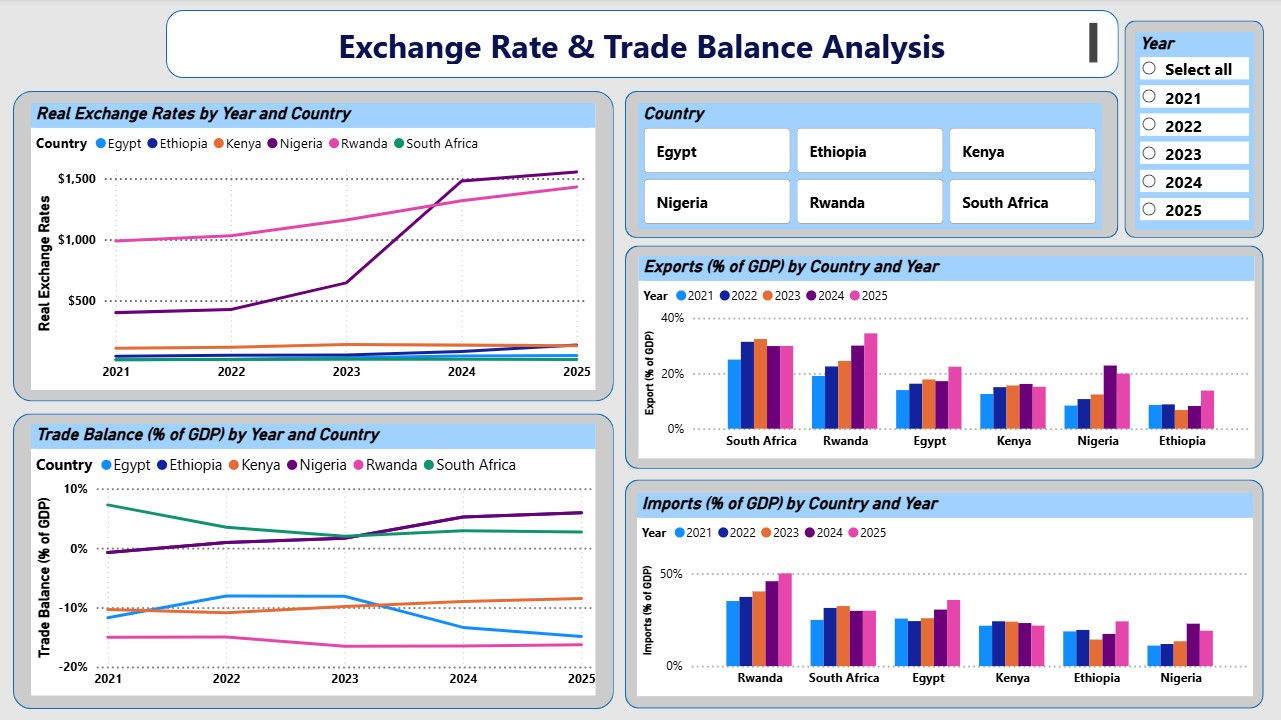

Layout of this report page (visuals, bound fields, positions):
{"tool":"powerbi","page":{"name":"Trade Analysis","canvas":[1280,720],"ordinal":1},"visuals":[{"type":"shape","box":[166.7,11.6,947.6,67.7],"z":0},{"type":"textbox","box":[181.6,19.8,916.3,51.2],"z":1000},{"type":"shape","box":[14.9,92.5,597.6,308.7],"z":2000},{"type":"shape","box":[14.9,412.7,597.6,293.9],"z":3000},{"type":"shape","box":[624,92.6,490.6,146.3],"z":4000},{"type":"advancedSlicerVisual","fields":{"Values":["Dim_Country.Country"]},"box":[637.3,104,460.6,125.5],"z":5000},{"type":"shape","box":[1121,23.1,138.7,216.3],"z":6000},{"type":"listSlicer","fields":{"Values":["Dim_Year.Year"]},"box":[1130.9,34.7,118.9,196.5],"z":7000},{"type":"shape","box":[624,246.3,635.1,222.2],"z":8000},{"type":"shape","box":[624,479.5,635.1,227.7],"z":9000},{"type":"lineChart","fields":{"Category":["Dim_Year.Year"],"Series":["Fact_Macro.Country"],"Y":["Fact_Macro.Real Exchange Rates"]},"box":[33,104,561.3,285.6],"z":10000},{"type":"lineChart","fields":{"Category":["Dim_Year.Year"],"Series":["Fact_Macro.Country"],"Y":["Fact_Macro.Trade Balance (% of GDP)"]},"box":[33.3,424,561,270.3],"z":11000},{"type":"clusteredColumnChart","title":"Exports (% of GDP) by Country and Year","fields":{"Category":["Dim_Country.Country"],"Series":["Dim_Year.Year"],"Y":["Fact_Macro.Export (% of GDP)"]},"box":[637.3,255.9,612.5,201.4],"z":12000},{"type":"clusteredColumnChart","fields":{"Category":["Dim_Country.Country"],"Series":["Dim_Year.Year"],"Y":["Fact_Macro.Imports (% of GDP)"]},"box":[635.1,492.5,612.8,201.8],"z":13000}]}

Visuals, with their boxes in screenshot pixels (x1, y1, x2, y2), scaled from the page's 1280x720 canvas onto the 1281x720 screenshot:
shape: box=[167, 12, 1115, 79]
textbox: box=[182, 20, 1099, 71]
shape: box=[15, 92, 613, 401]
shape: box=[15, 413, 613, 707]
shape: box=[624, 93, 1115, 239]
advancedSlicerVisual - Dim_Country.Country: box=[638, 104, 1099, 230]
shape: box=[1122, 23, 1261, 239]
listSlicer - Dim_Year.Year: box=[1132, 35, 1251, 231]
shape: box=[624, 246, 1260, 468]
shape: box=[624, 480, 1260, 707]
lineChart - Dim_Year.Year x Fact_Macro.Country: box=[33, 104, 595, 390]
lineChart - Dim_Year.Year x Fact_Macro.Country: box=[33, 424, 595, 694]
"Exports (% of GDP) by Country and Year" clusteredColumnChart: box=[638, 256, 1251, 457]
clusteredColumnChart - Dim_Country.Country x Dim_Year.Year: box=[636, 492, 1249, 694]
